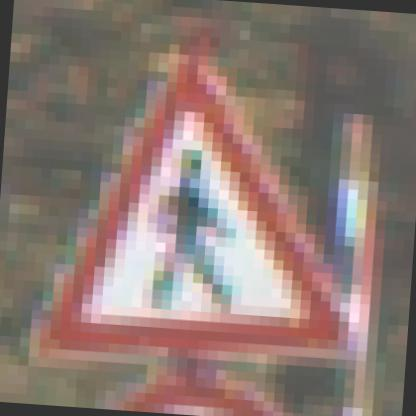crosswalk: (0, 11, 388, 414)
